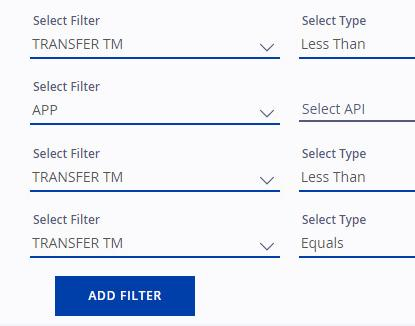button: (52, 272, 198, 319)
